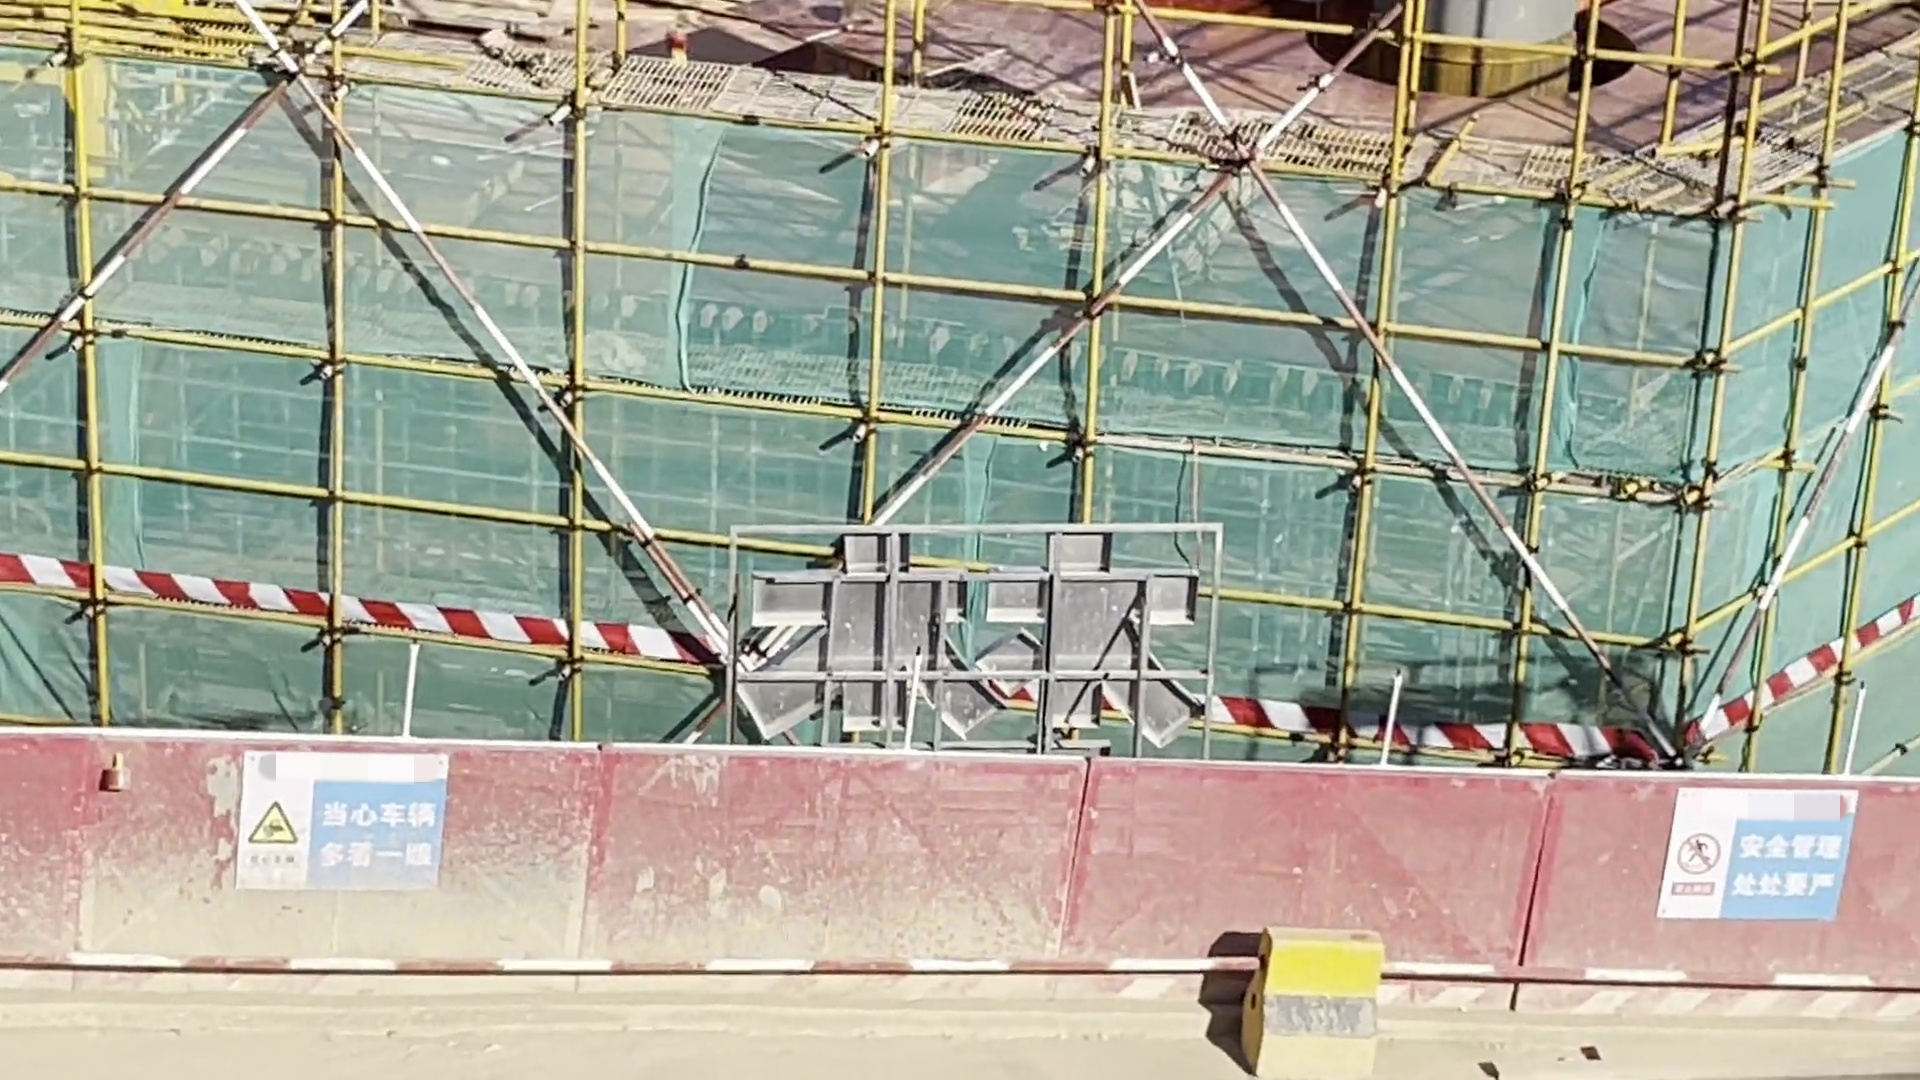fence: (5, 709, 1920, 1031)
slogan: (1644, 778, 1898, 959), (233, 735, 469, 907)
